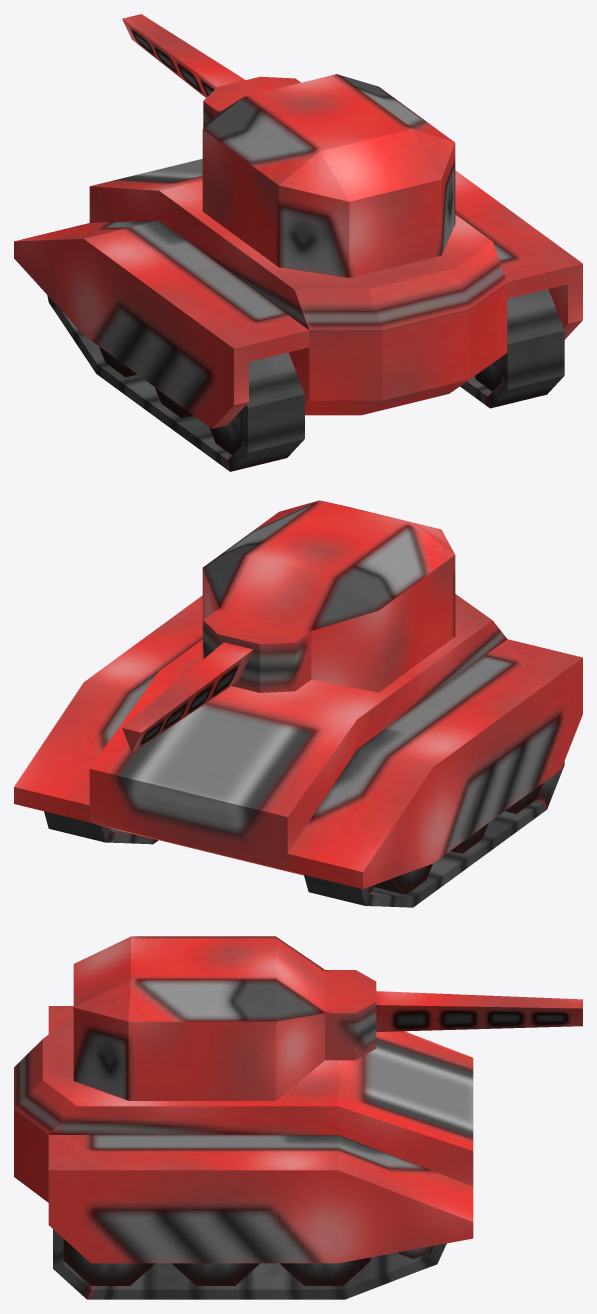
Rendered from tank2.glb.
The picture shows the model from 3 angles, top to bottom: view 1: azimuth 30°, elevation 25°; view 2: azimuth 150°, elevation 25°; view 3: azimuth 270°, elevation 25°; orthographic projection. The views are drawn at different scales.
Visible parts, largest first — view 1: polySurface5; view 2: polySurface5; view 3: polySurface5.
Boxes of the visible parts, x1,y1,x2,y2 form: polySurface5: [14, 14, 582, 471]; polySurface5: [14, 500, 582, 907]; polySurface5: [14, 936, 582, 1299].
Bounding box in the file's own units: 1.73 × 1.31 × 2.53.
Materials: 1 (1 with a texture image).
